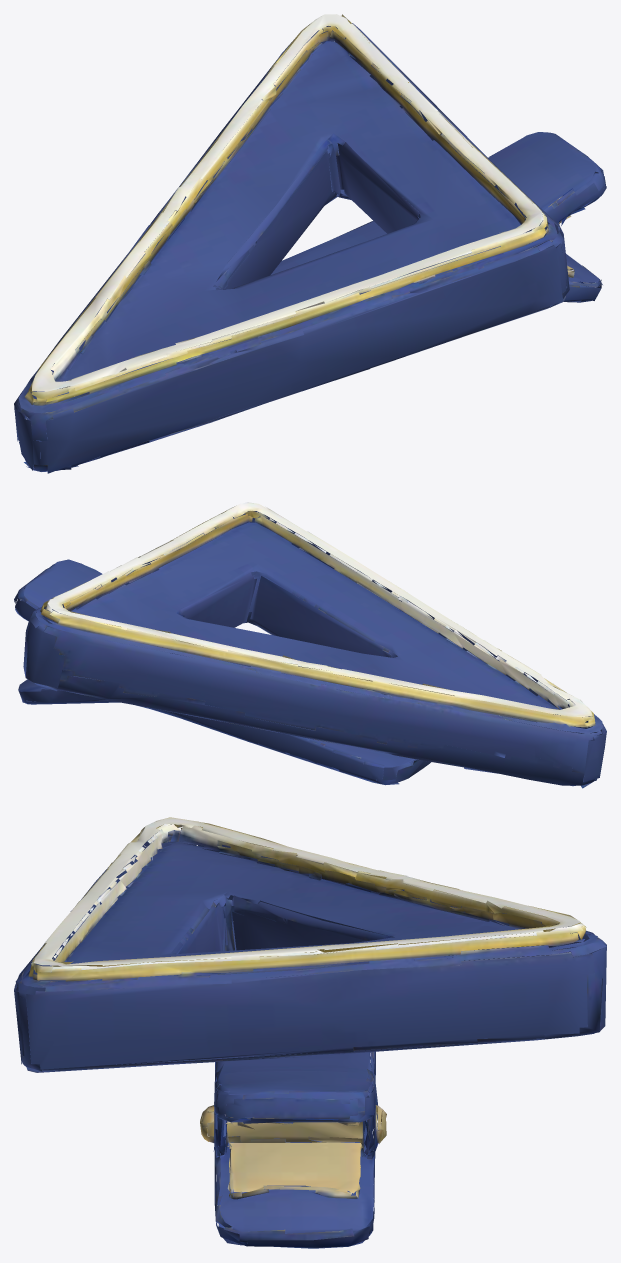
The model's file is gear_geometry_hair.glb.
3 renders of one model, top to bottom at view 1: azimuth 30°, elevation 25°; view 2: azimuth 150°, elevation 25°; view 3: azimuth 270°, elevation 25°, orthographic. The views are drawn at different scales.
Parts seen in each view (by area): view 1: gear_geometry_hair; view 2: gear_geometry_hair; view 3: gear_geometry_hair.
Boxes of the visible parts, x1,y1,x2,y2 form: gear_geometry_hair: [14, 14, 606, 473]; gear_geometry_hair: [14, 502, 606, 788]; gear_geometry_hair: [14, 817, 606, 1248].
Size of the model in its own units: 1.49 by 0.5029 by 1.04.
1 material, 1 textured.
